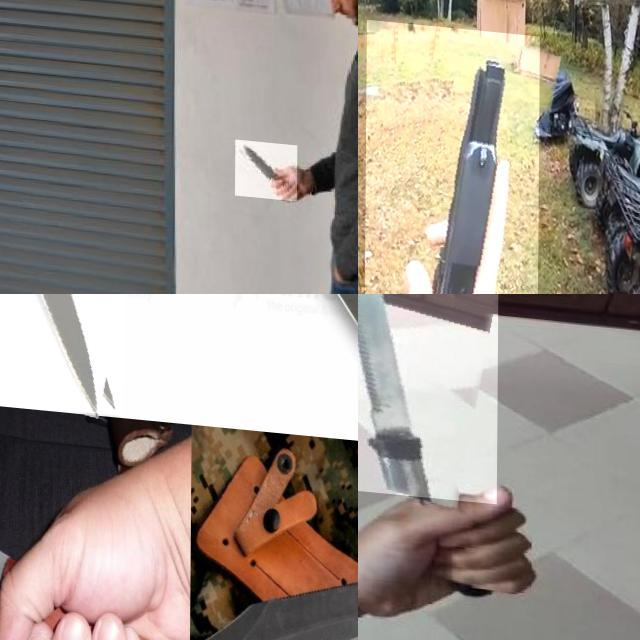-: (358, 294, 499, 498), (0, 483, 116, 640), (193, 549, 358, 640), (0, 294, 126, 411), (315, 294, 358, 430), (236, 134, 298, 194)
gun-knife-thesis - v11 Yolov5 augmented: (364, 14, 540, 294)
